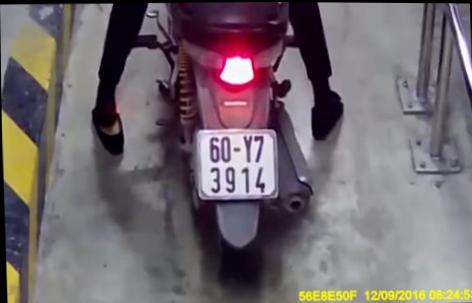LP: (193, 126, 279, 202)
